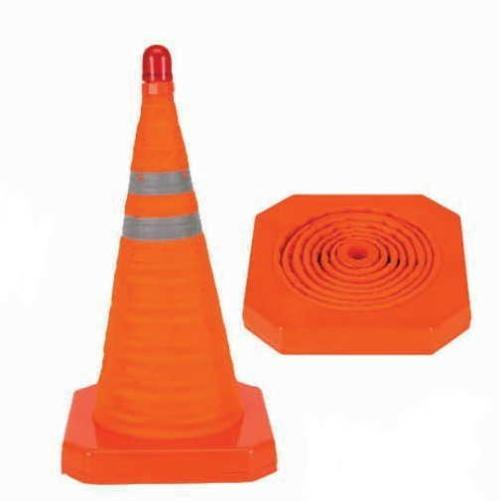cone_barrel: (82, 56, 252, 464)
